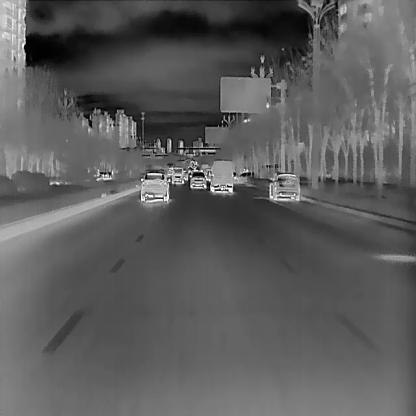car: (268, 170, 300, 202), (139, 170, 169, 203), (211, 159, 233, 195), (189, 172, 206, 189), (233, 171, 254, 183), (171, 168, 184, 185)
